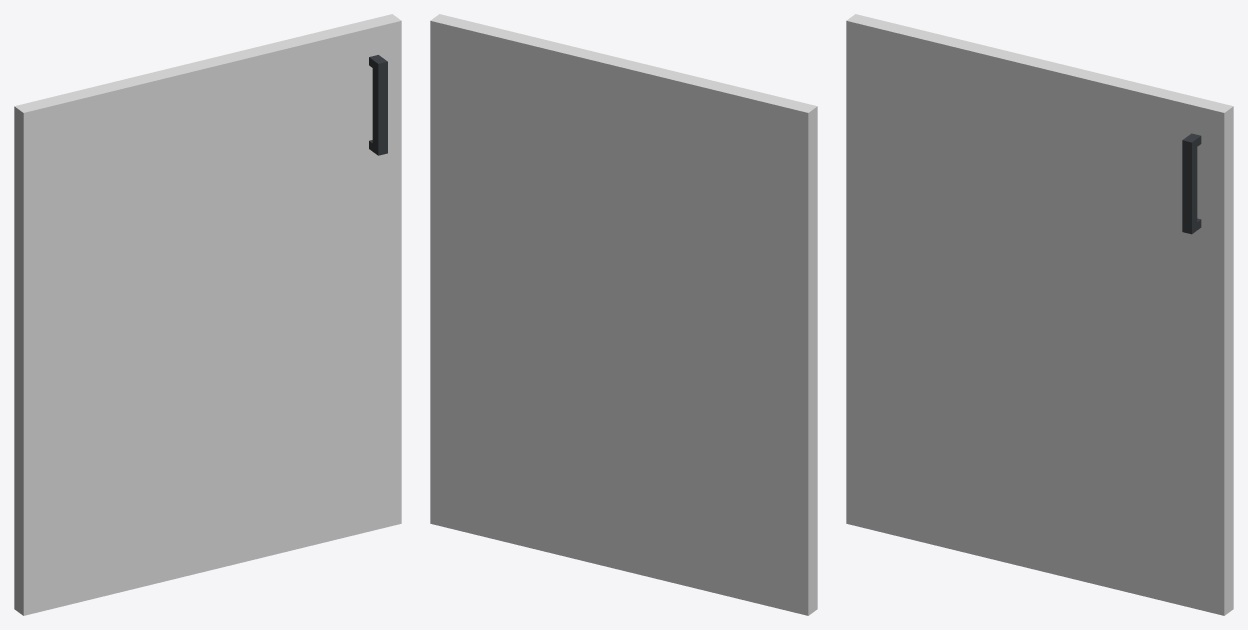
File: Door1_C1_02.fbx
3 views of the same model, side by side, from view 1: azimuth 30°, elevation 25°; view 2: azimuth 150°, elevation 25°; view 3: azimuth 330°, elevation 25° (orthographic).
Visible parts, largest first — view 1: Door1_C1_02; view 2: Door1_C1_02; view 3: Door1_C1_02.
Part boxes in pixels (<box>): Door1_C1_02: <box>14,14,401,615</box>; Door1_C1_02: <box>430,14,817,615</box>; Door1_C1_02: <box>846,14,1233,615</box>.
Size of the model in its own units: 59 by 75 by 5.03.
